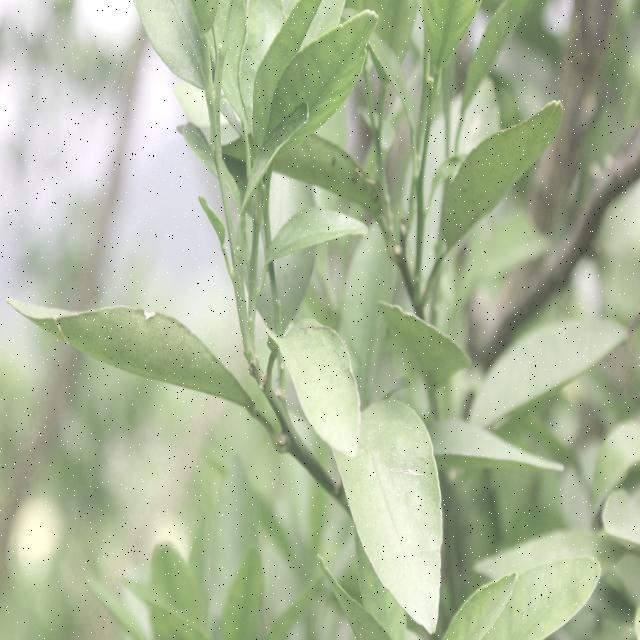blackspot: (364, 416, 445, 612), (86, 310, 236, 408), (287, 330, 339, 393)
